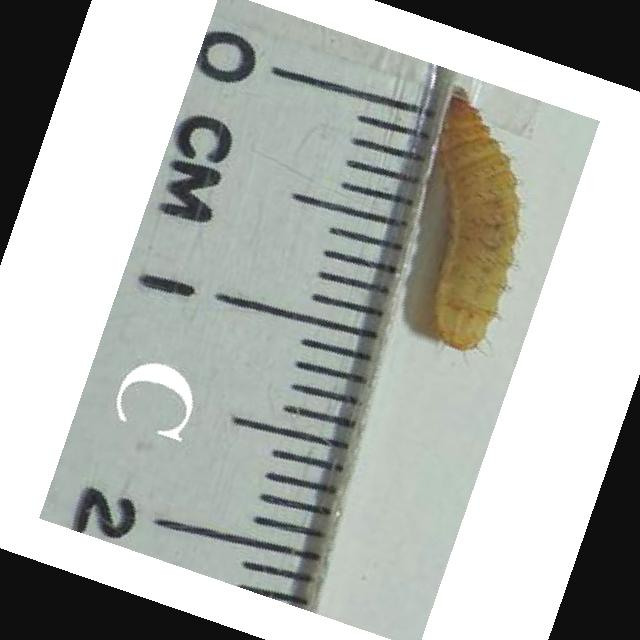Maggot: (434, 89, 524, 350)
